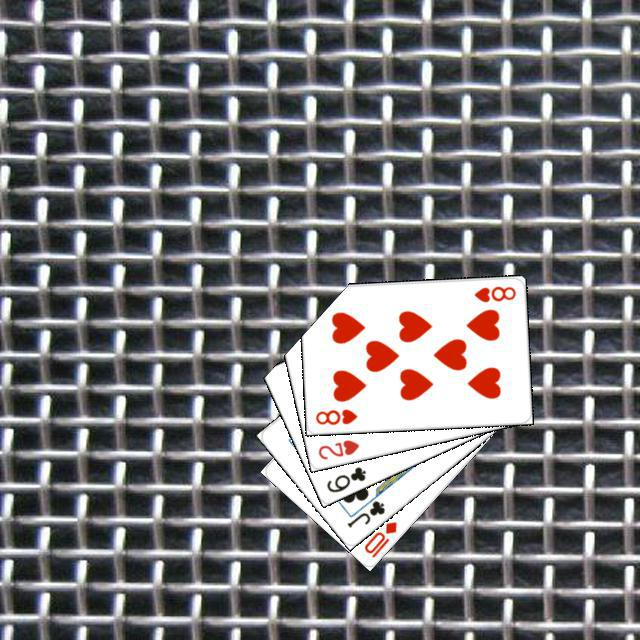10d: (359, 517, 399, 560)
2h: (313, 435, 361, 461)
6c: (322, 462, 368, 494)
8h: (469, 281, 517, 304), (310, 404, 359, 426)
Jc: (342, 495, 387, 529)
